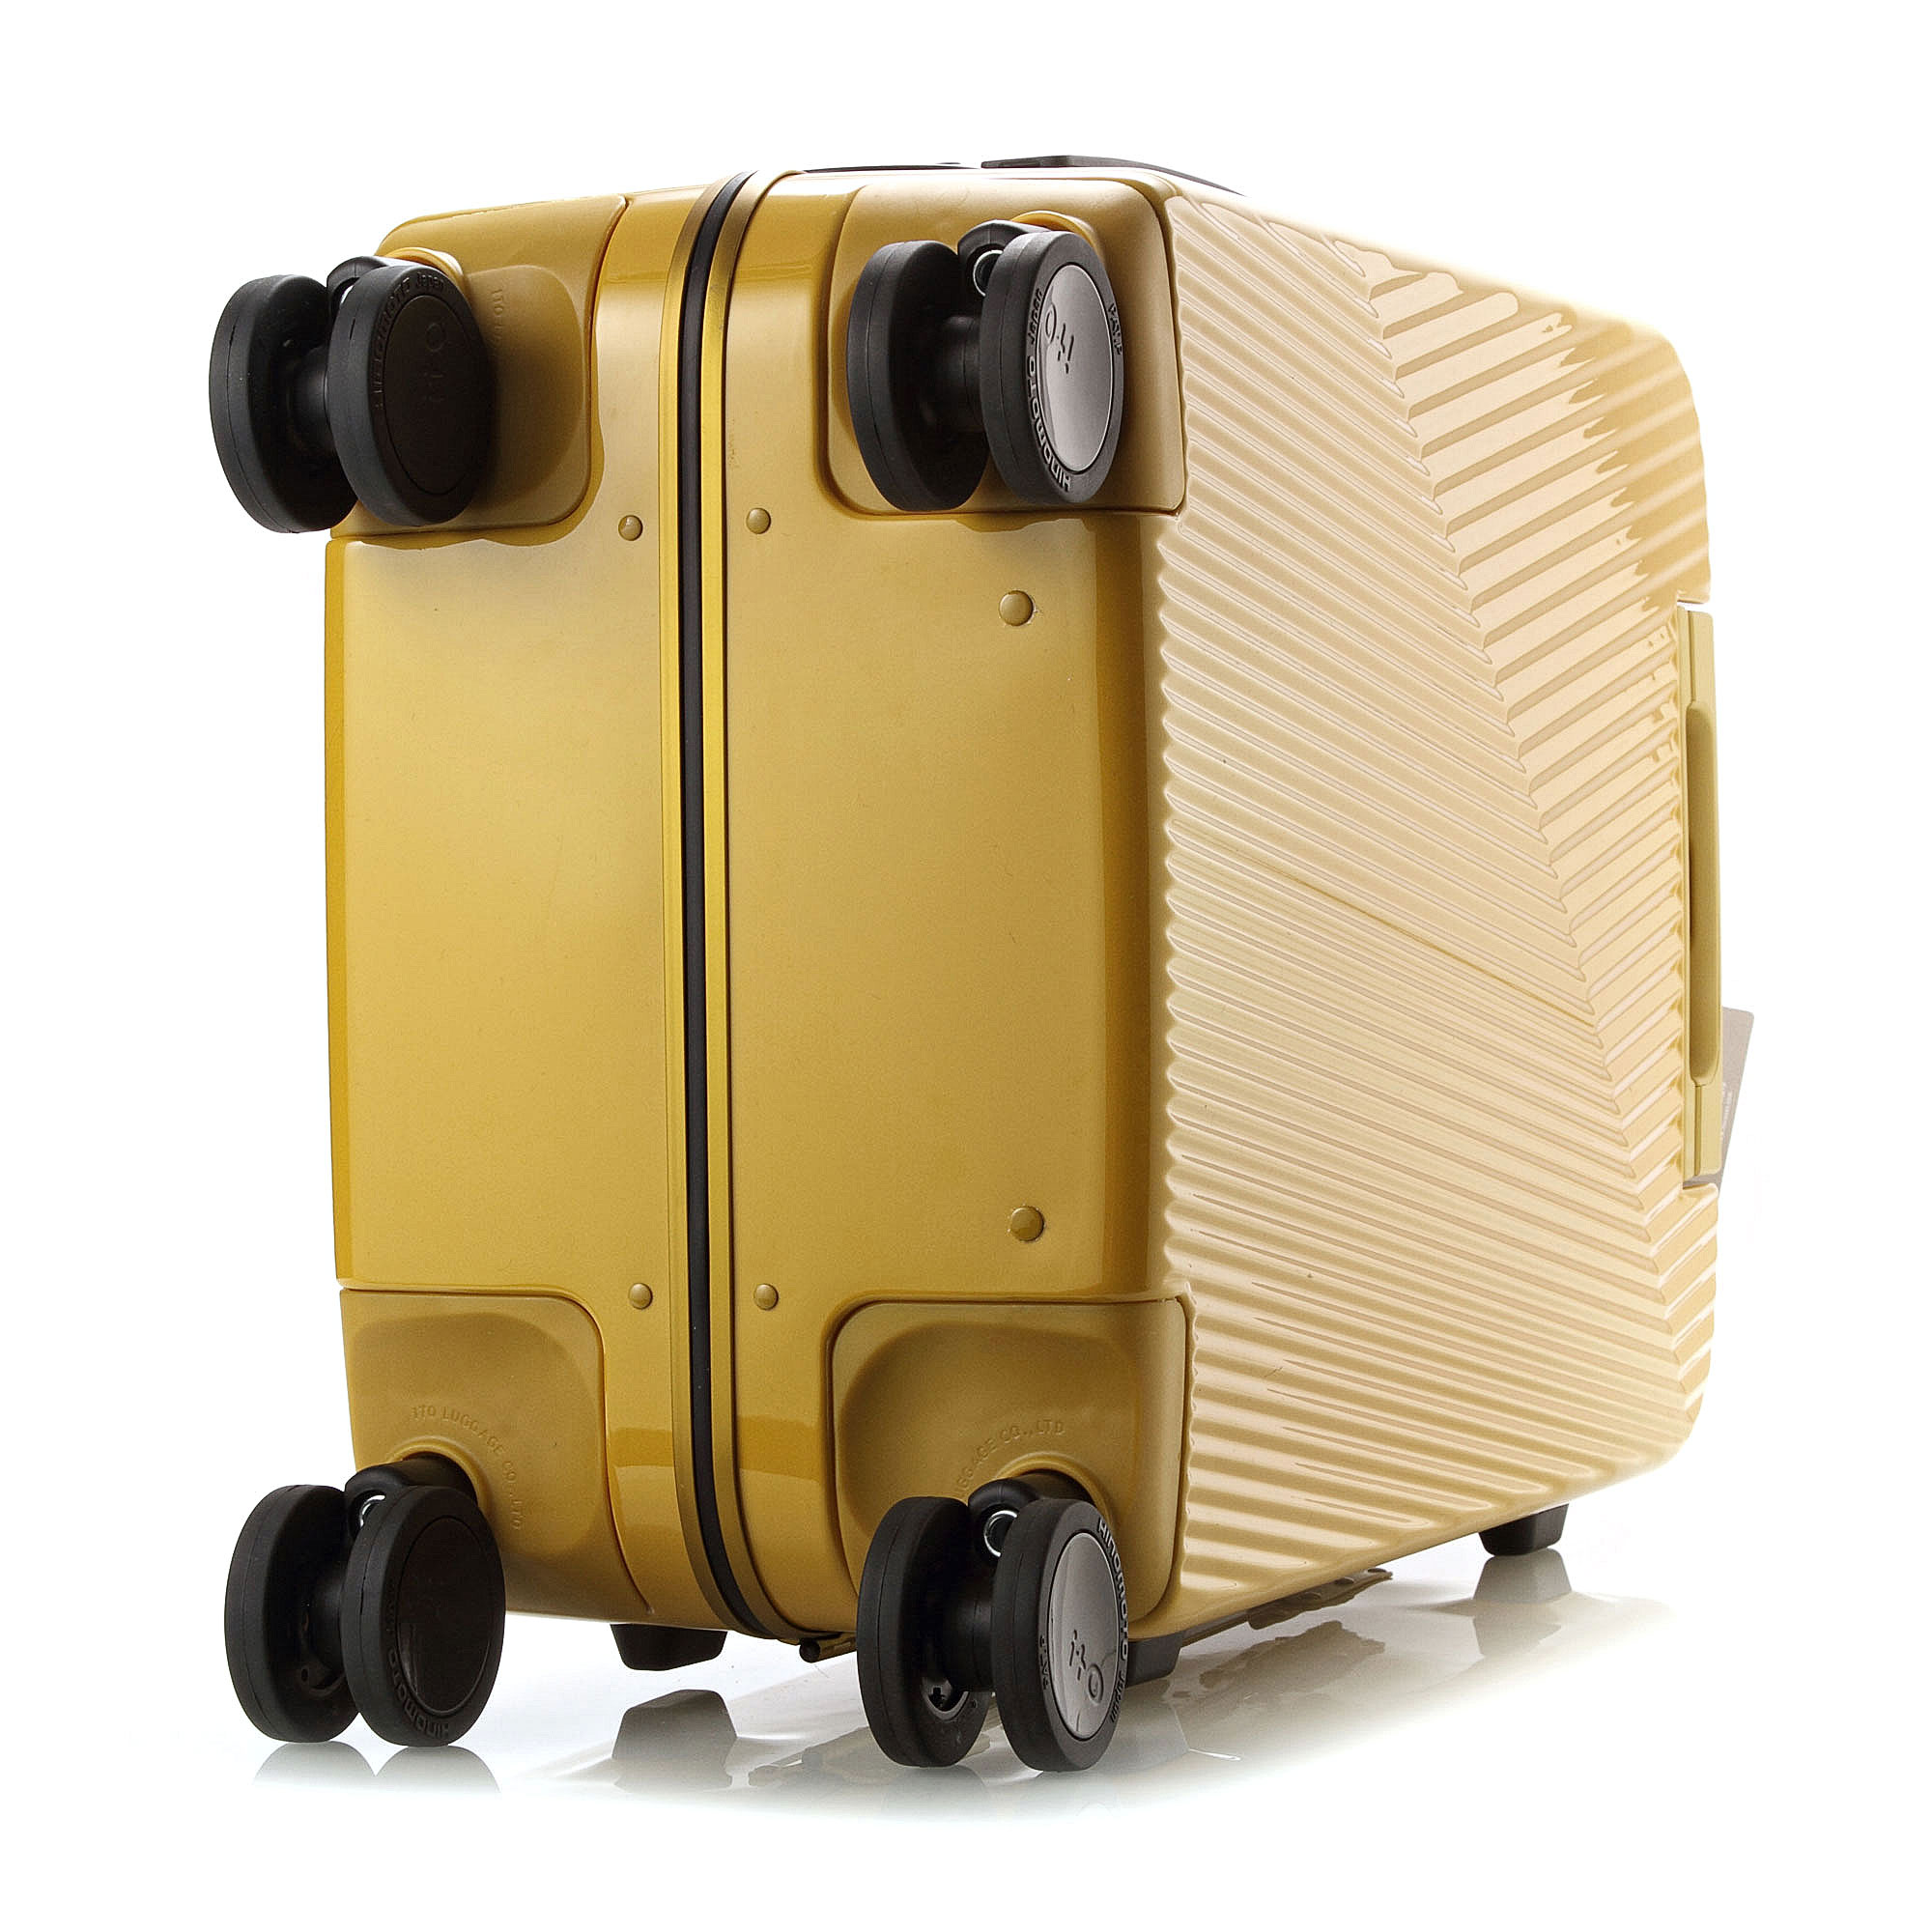suitcase: (214, 159, 1760, 1773)
